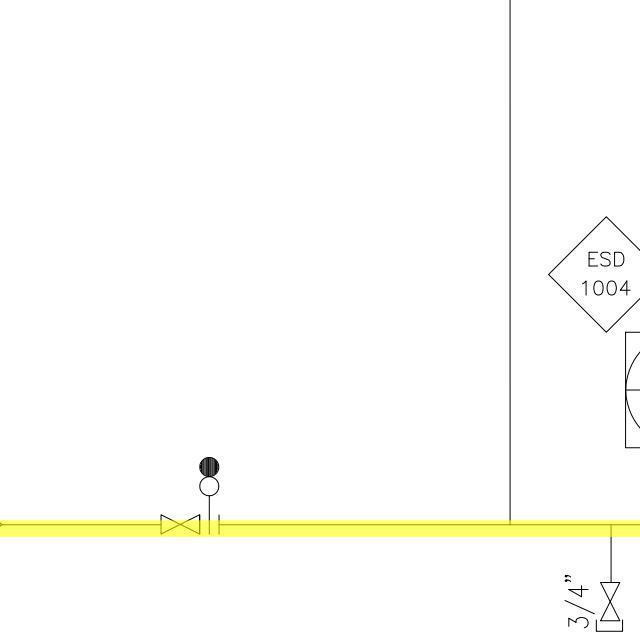EC: (590, 528, 628, 638)
GV: (155, 515, 205, 539), (599, 577, 620, 623)
